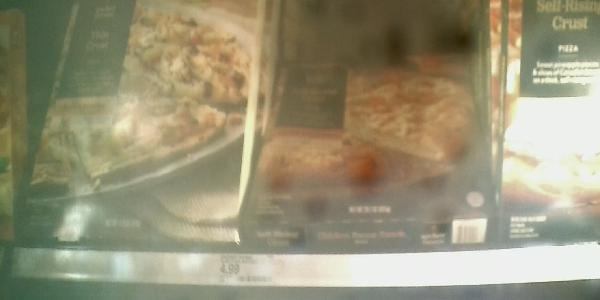pizza1: (16, 1, 255, 247), (245, 60, 493, 252)
